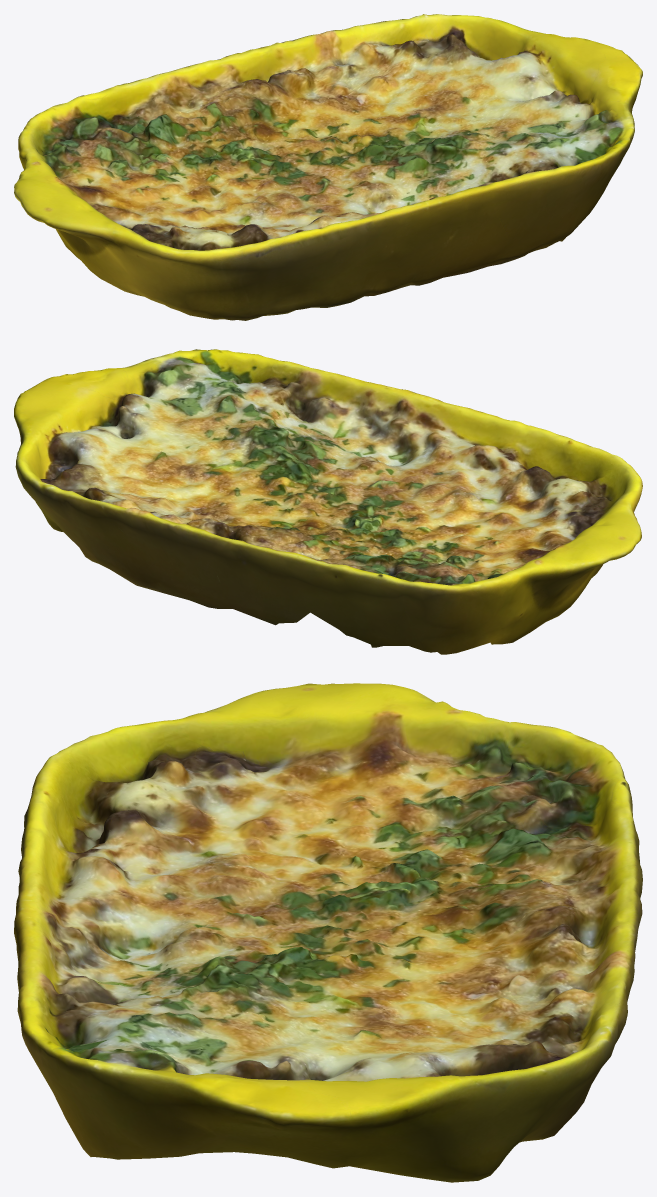
File: lasagne.ar.glb
The picture shows the model from 3 angles, top to bottom: view 1: azimuth 30°, elevation 25°; view 2: azimuth 150°, elevation 25°; view 3: azimuth 270°, elevation 25°; orthographic projection. The views are drawn at different scales.
Visible parts, largest first — view 1: /ObjectCapture/Geometry/Mesh; view 2: /ObjectCapture/Geometry/Mesh; view 3: /ObjectCapture/Geometry/Mesh.
Part boxes in pixels (x1=…): /ObjectCapture/Geometry/Mesh: x1=14, y1=14, x2=642, y2=320; /ObjectCapture/Geometry/Mesh: x1=14, y1=349, x2=642, y2=654; /ObjectCapture/Geometry/Mesh: x1=14, y1=683, x2=642, y2=1182.
Bounding box in the file's own units: 0.232 × 0.0399 × 0.1371.
1 material, 1 textured.
